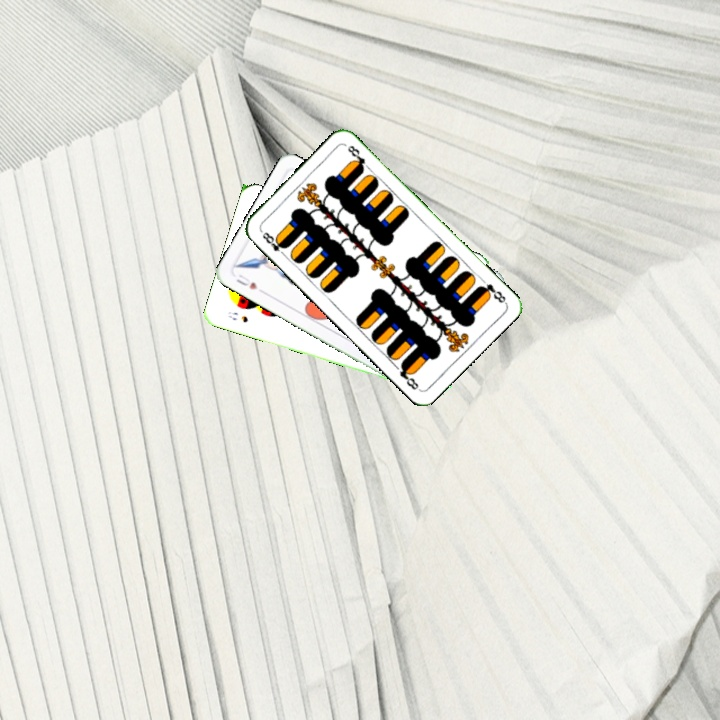E8: (257, 227, 290, 259), (474, 279, 508, 306)
HU: (232, 270, 260, 292)
S8: (224, 307, 250, 325)
